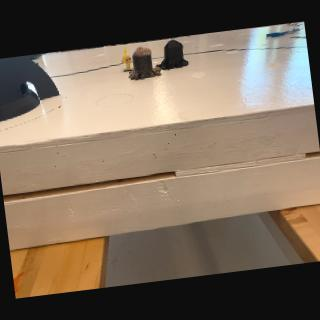teletubby: (121, 47, 132, 70)
